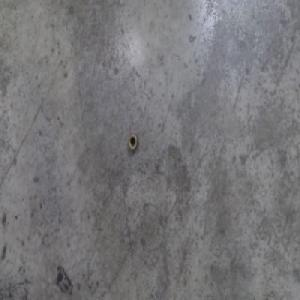Nut: (127, 132, 139, 153)
